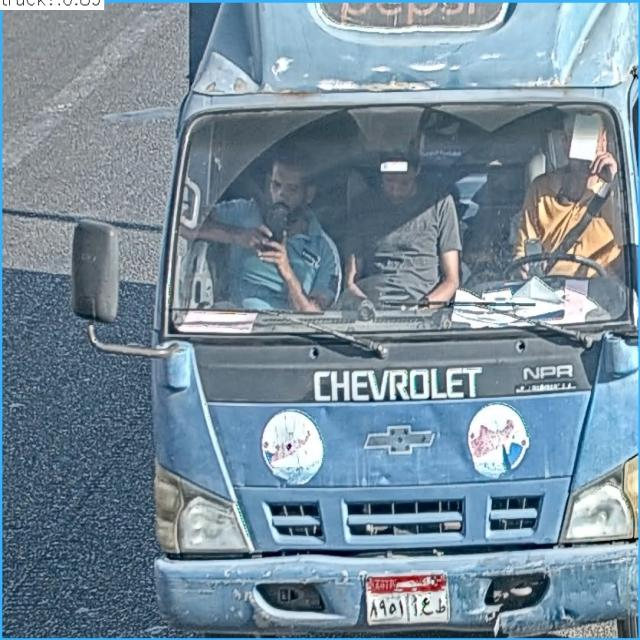windshield: (174, 107, 625, 335)
